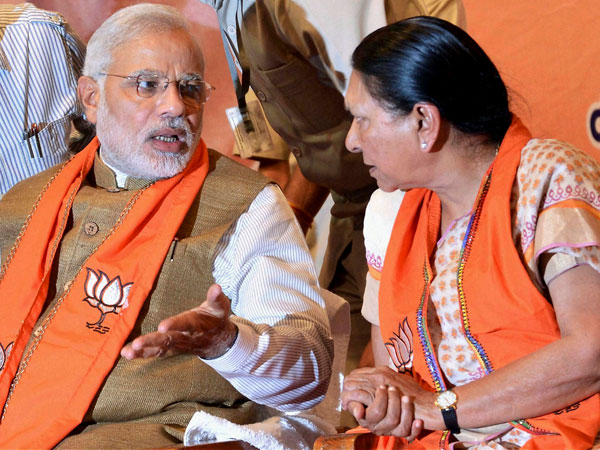modi: (51, 1, 249, 199)
